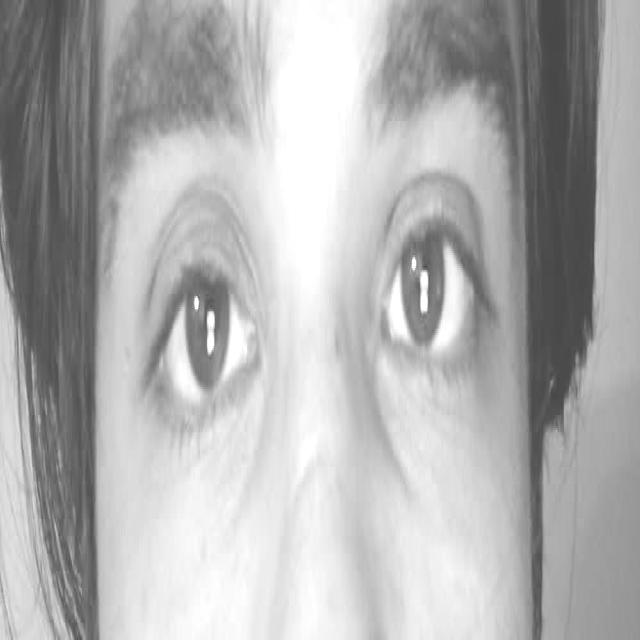real: (102, 110, 510, 490)
